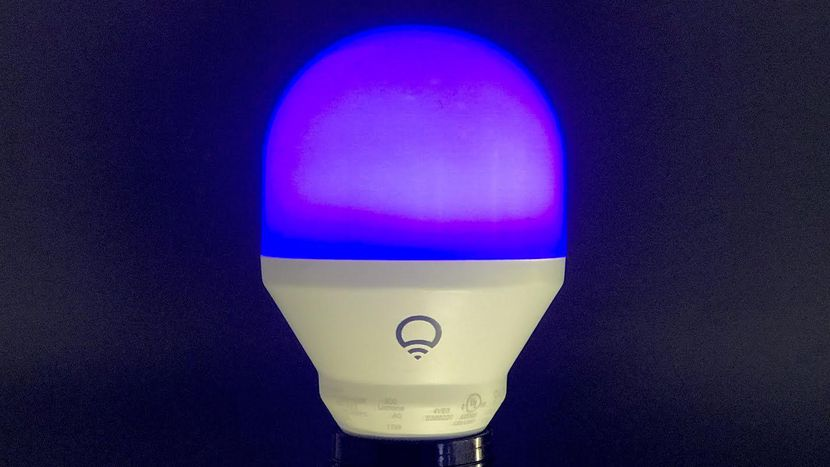Nonrec_Glass: (241, 7, 607, 437)
